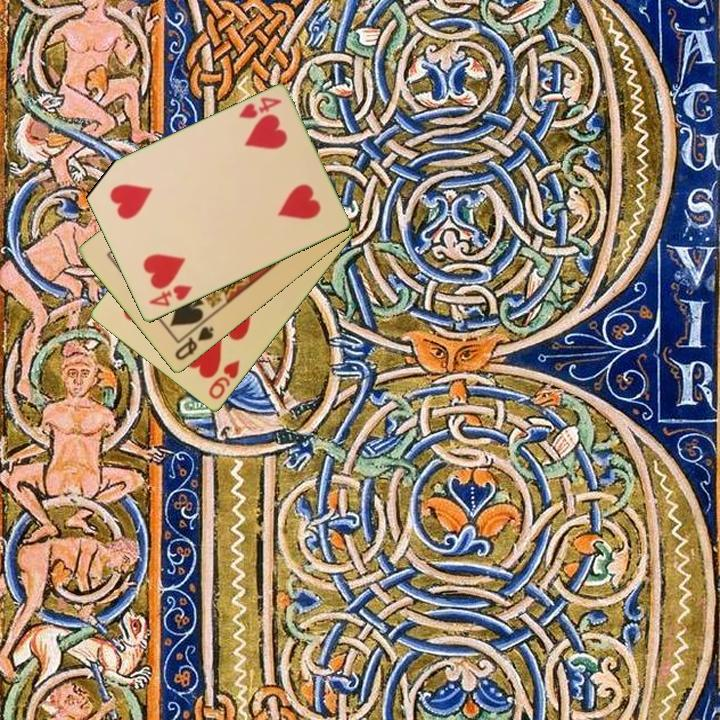4h: (145, 282, 195, 310), (235, 94, 285, 122)
9h: (205, 357, 243, 403)
Qs: (171, 323, 217, 364)
